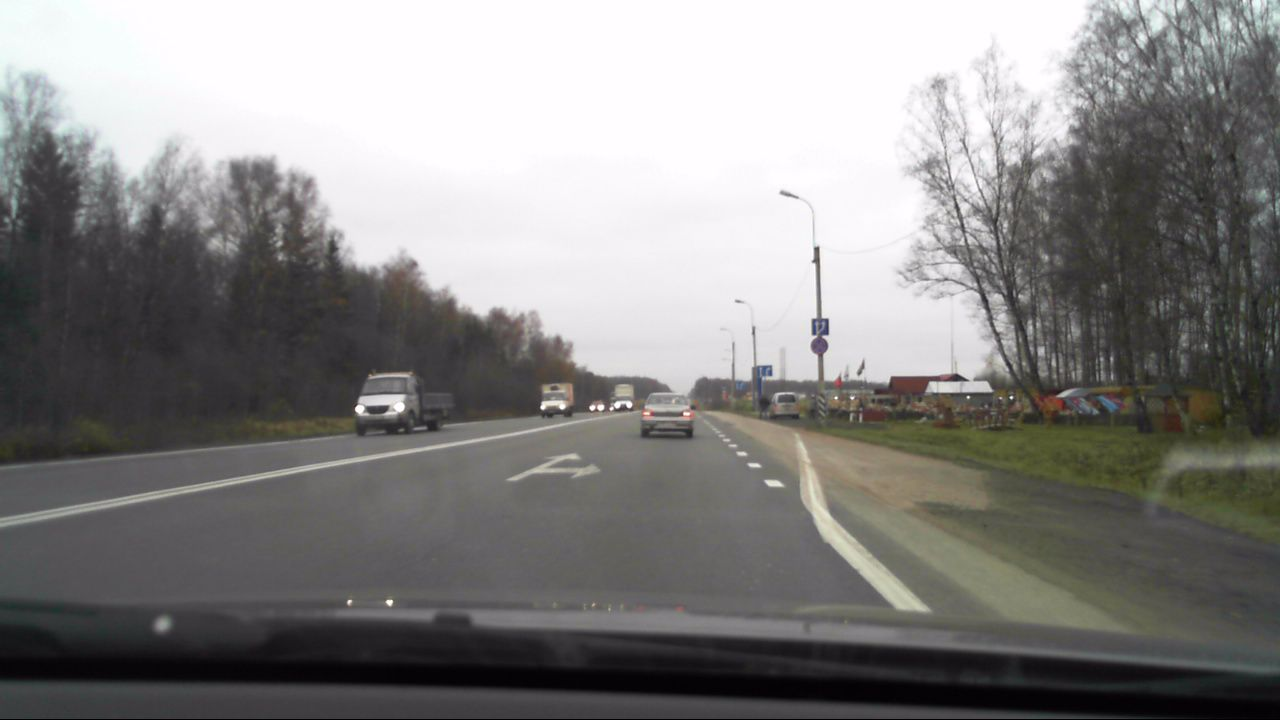No Parking: (809, 337, 827, 354)
